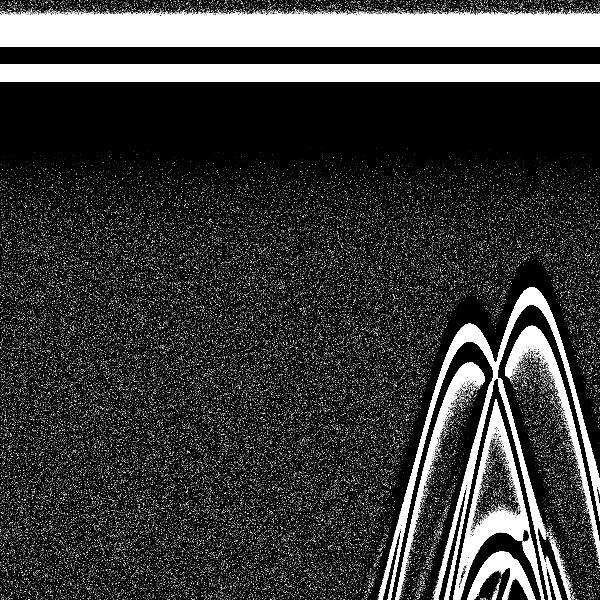pipe: (421, 6, 515, 403), (486, 5, 577, 369)
